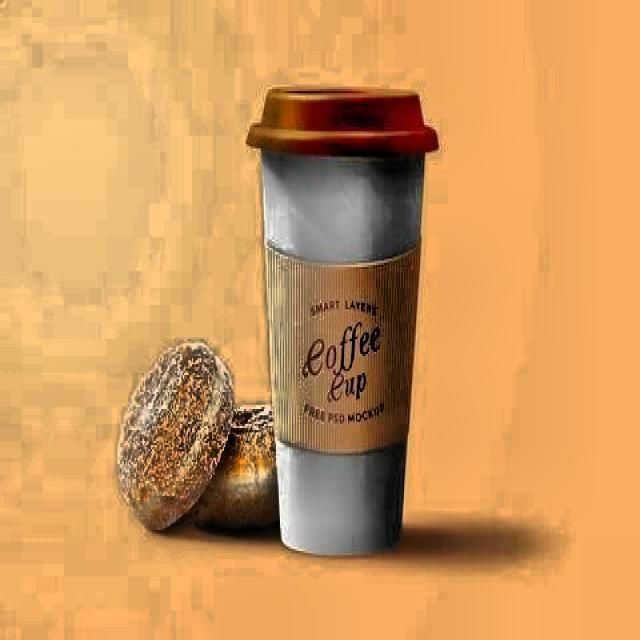Cup: (252, 76, 432, 560)
